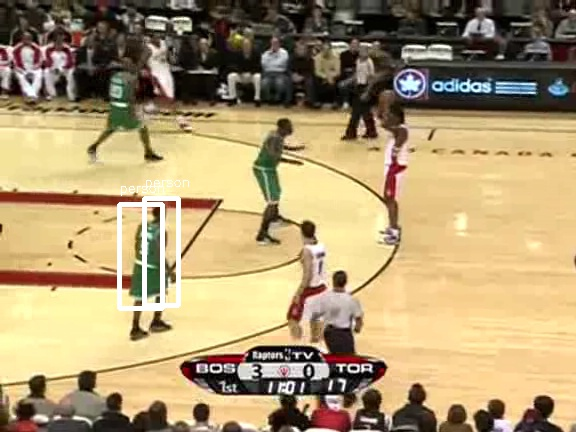person: (133, 224, 167, 305), (132, 224, 166, 305), (134, 224, 168, 305), (133, 223, 167, 304), (133, 225, 167, 306)
target_negative: (14, 227, 368, 363), (169, 217, 488, 331), (253, 181, 417, 336), (305, 117, 459, 280), (309, 387, 412, 411), (82, 329, 450, 332)
